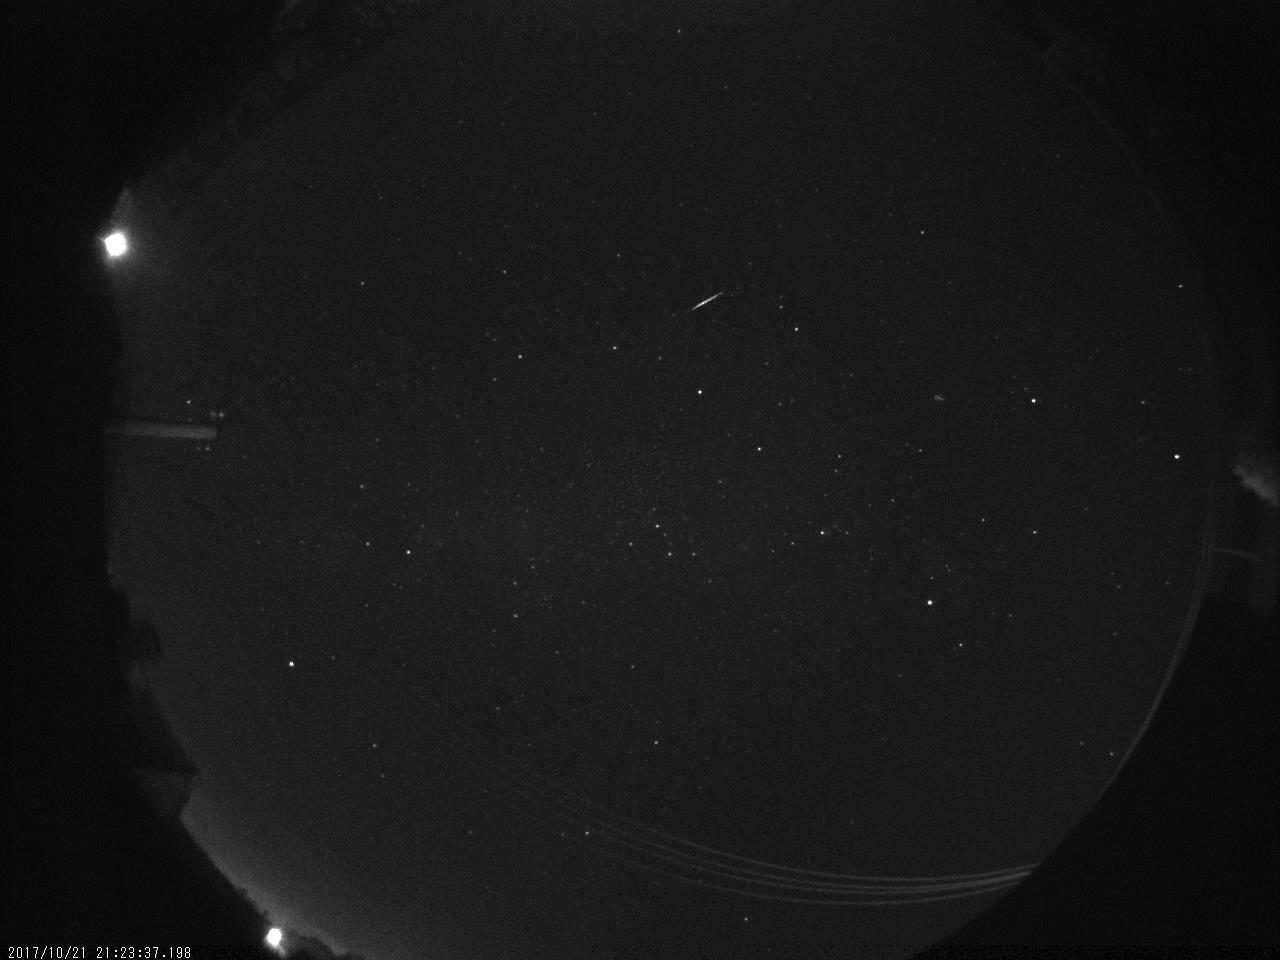Meteor: (690, 287, 728, 312)
